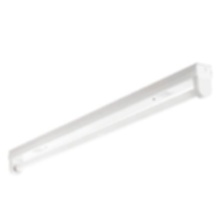light_bulb: (9, 77, 213, 175)
